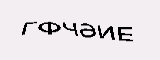Ә: (79, 21, 97, 39)
